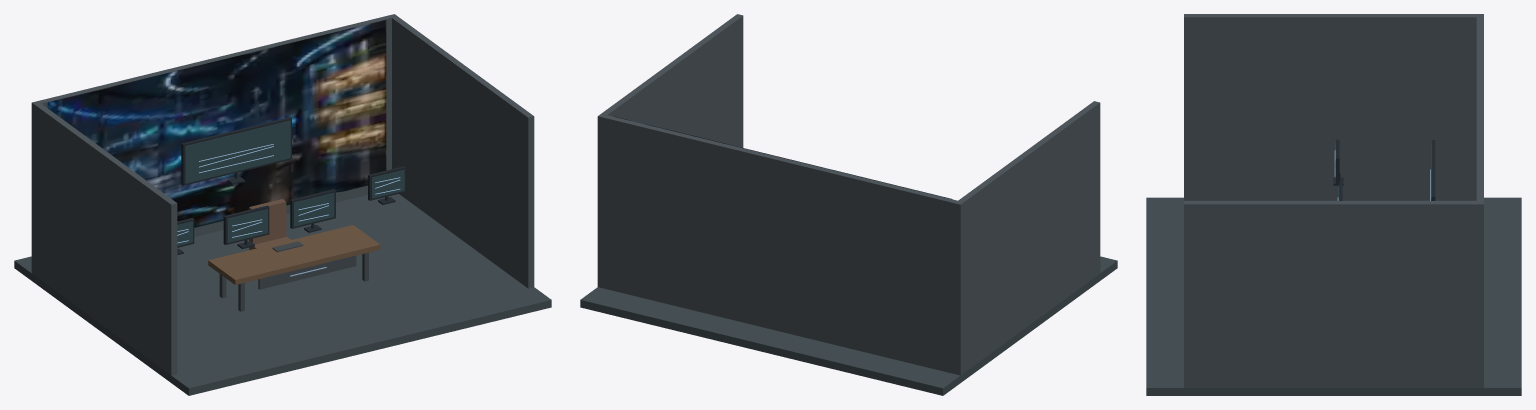
The model's file is trend.glb.
3 renders of one model, left to right at view 1: azimuth 30°, elevation 25°; view 2: azimuth 150°, elevation 25°; view 3: azimuth 270°, elevation 25°, orthographic. The views are drawn at different scales.
Visible parts, largest first — view 1: Room floor slab.002, Room cinematic backplate.002, Room left wall.002, Room right wall.002, Executive desk top.002, Abstract market display.007, Room rear wall.002, Desk front fascia.002, Abstract market display.006, Abstract market display.005, Monitor bezel.006, Chair back (+2 smaller); view 2: Room rear wall.002, Room left wall.002, Room floor slab.002, Room right wall.002; view 3: Room right wall.002, Room left wall.002, Room floor slab.002, Room rear wall.002.
Boxes of the visible parts, <box> form: Room floor slab.002: <box>14,194,551,395</box>; Room cinematic backplate.002: <box>47,20,386,227</box>; Room left wall.002: <box>31,102,177,375</box>; Room right wall.002: <box>392,16,534,288</box>; Executive desk top.002: <box>208,225,380,284</box>; Abstract market display.007: <box>185,120,290,183</box>; Room rear wall.002: <box>33,14,397,236</box>; Desk front fascia.002: <box>258,255,356,289</box>; Abstract market display.006: <box>294,193,334,226</box>; Abstract market display.005: <box>227,209,267,242</box>; Monitor bezel.006: <box>181,117,291,185</box>; Chair back: <box>249,199,286,244</box>; Room rear wall.002: <box>597,114,963,375</box>; Room left wall.002: <box>954,101,1100,374</box>; Room floor slab.002: <box>580,256,1117,395</box>; Room right wall.002: <box>598,14,743,147</box>; Room right wall.002: <box>1184,201,1483,387</box>; Room left wall.002: <box>1184,14,1483,200</box>; Room floor slab.002: <box>1146,197,1521,395</box>; Room rear wall.002: <box>1476,14,1483,387</box>.
Bounding box in the file's own units: 12 × 5.64 × 10.
9 materials, 1 textured.
